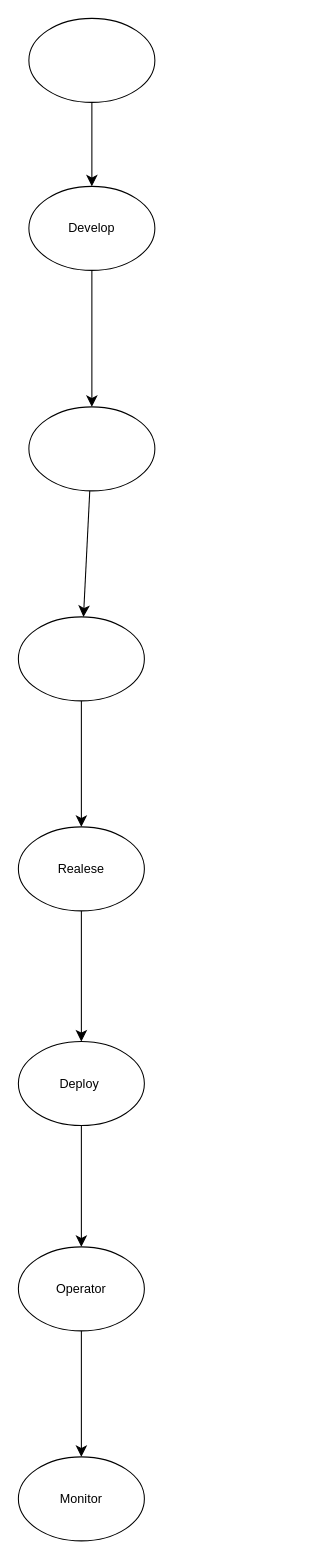
Some shapes in this 331 by 1559 pixel diagram are drawn without their labels. The shapes that lost their labels are listed below. From the top down, each one's centre as x and y in pixels, then its label:
[91,59]: Plan
[91,448]: Build
[80,658]: Test
